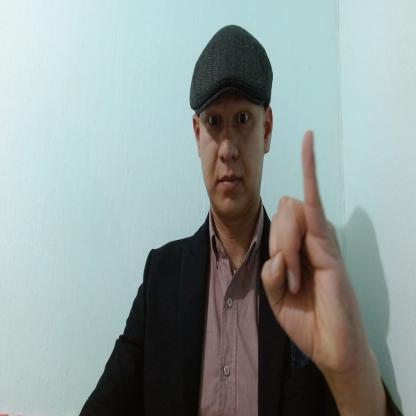I: (260, 126, 360, 374)
